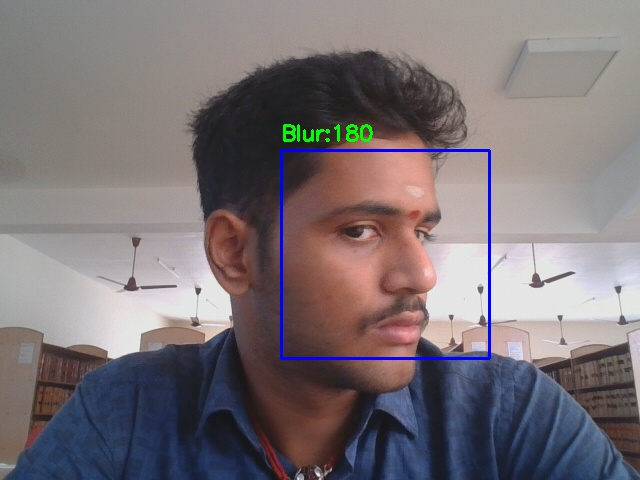real: (281, 150, 489, 358)
